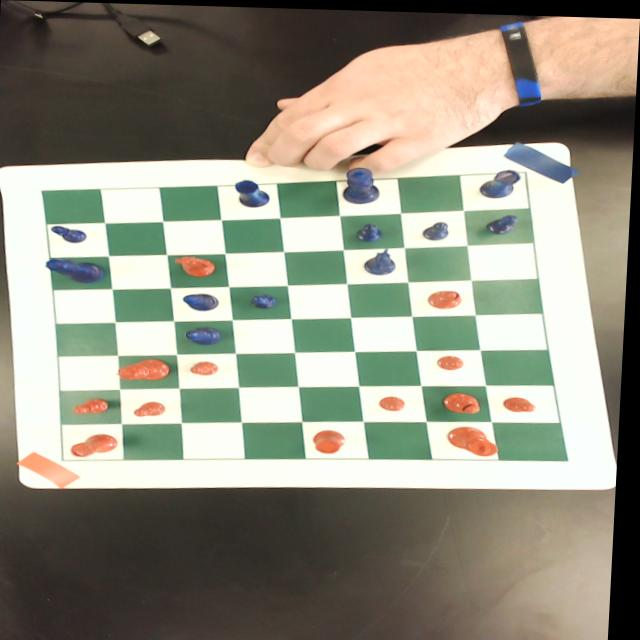B: (187, 325, 226, 344), (184, 292, 222, 310)
K: (343, 165, 383, 202)
N: (363, 245, 398, 273)
P: (486, 212, 523, 232), (51, 225, 88, 242), (423, 218, 452, 239), (357, 221, 385, 240), (251, 293, 280, 308)
Q: (45, 258, 106, 283)
R: (479, 165, 522, 196), (232, 177, 272, 206)
b: (446, 389, 485, 411), (428, 288, 468, 307)
k: (449, 423, 504, 454)
n: (175, 254, 218, 276)
p: (76, 397, 114, 415), (505, 393, 540, 410), (137, 400, 169, 416), (193, 359, 222, 374), (438, 353, 467, 367), (381, 394, 408, 408)
q: (120, 357, 174, 380)
r: (73, 433, 122, 458), (315, 428, 351, 453)
